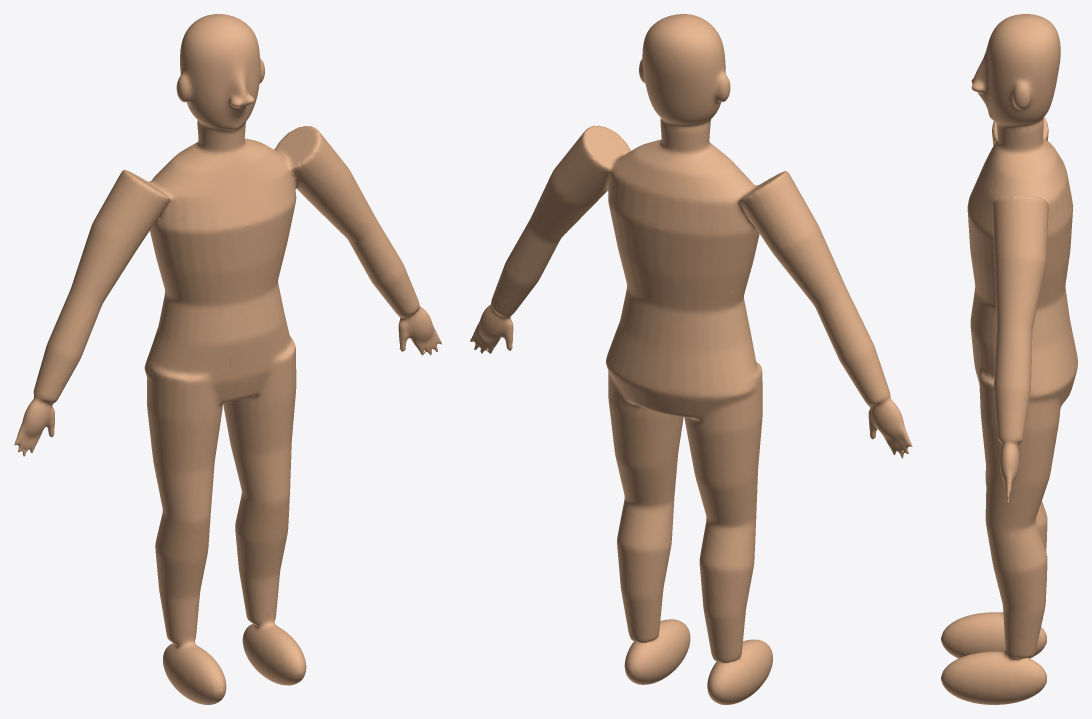
Rendered from NPC2_BaseFemale_APose.fbx.
3 renders of one model, left to right at view 1: azimuth 30°, elevation 25°; view 2: azimuth 150°, elevation 25°; view 3: azimuth 270°, elevation 25°, orthographic. The views are drawn at different scales.
Visible parts, largest first — view 1: NPC2_BaseFemale_APose_Skin; view 2: NPC2_BaseFemale_APose_Skin; view 3: NPC2_BaseFemale_APose_Skin.
Part boxes in pixels (x1=…): NPC2_BaseFemale_APose_Skin: x1=14, y1=14, x2=441, y2=704; NPC2_BaseFemale_APose_Skin: x1=470, y1=14, x2=912, y2=704; NPC2_BaseFemale_APose_Skin: x1=941, y1=14, x2=1077, y2=704.
Size of the model in its own units: 1.24 by 1.83 by 0.341.
